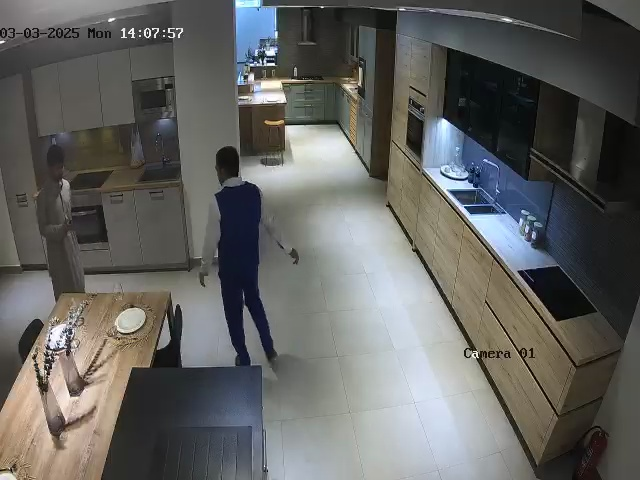employee: (199, 145, 299, 368)
male: (34, 145, 86, 303)
